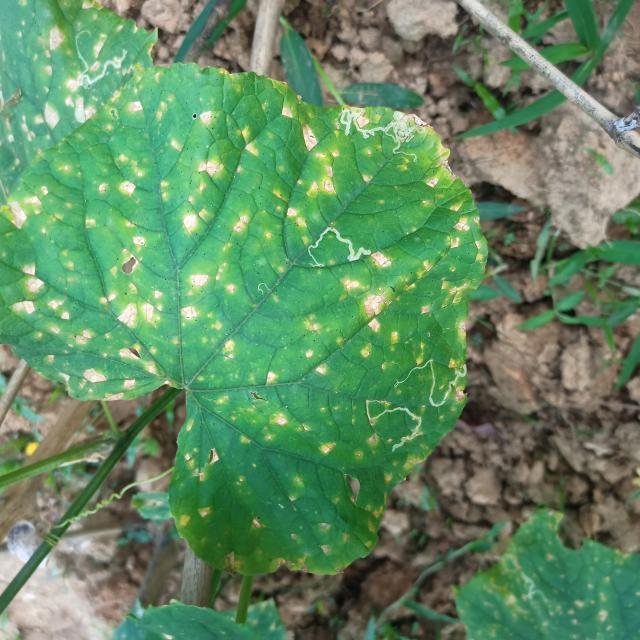disease_cucumber: (10, 80, 488, 564), (1, 16, 130, 159)
